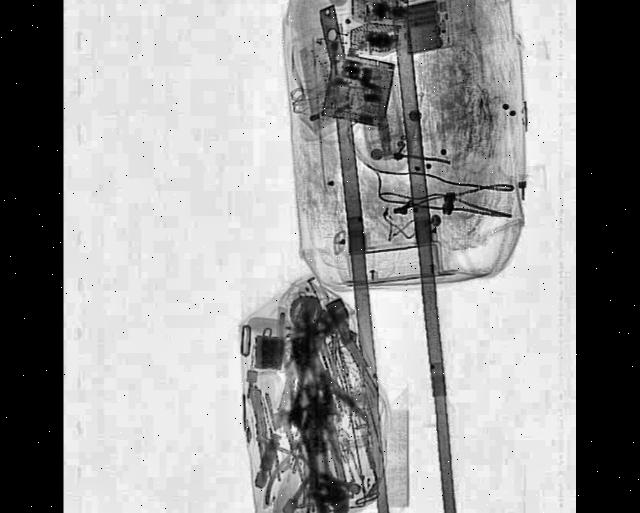Wrench: (286, 292, 353, 513)
